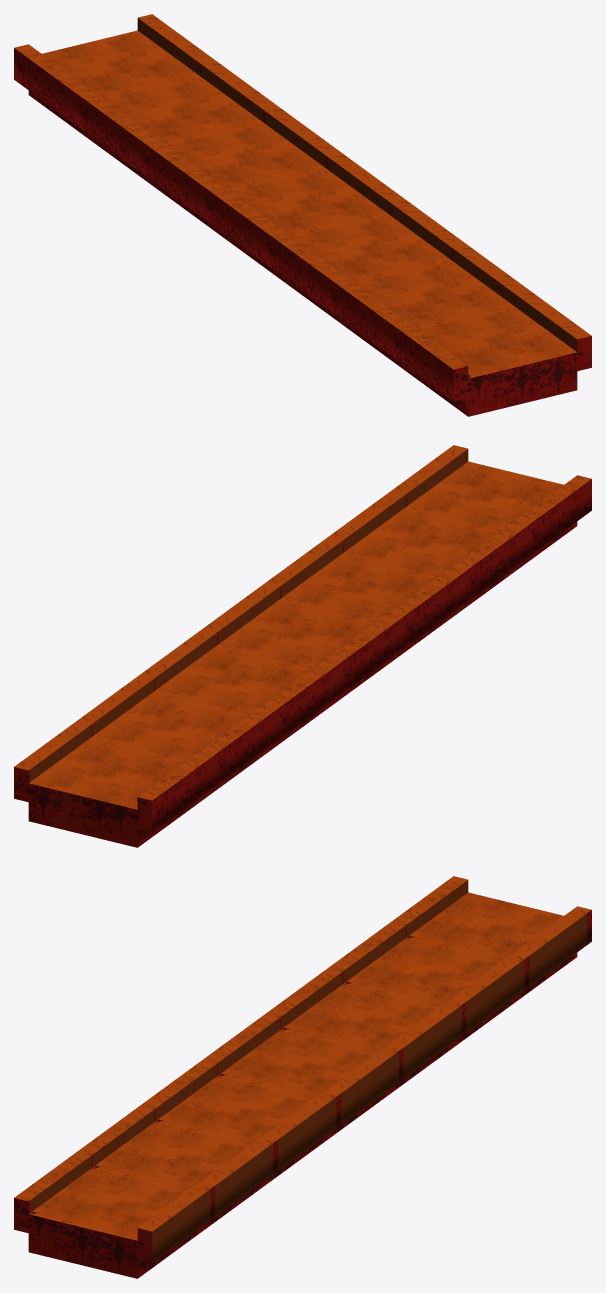
Rendered from TileX6.FBX.
3 renders of one model, top to bottom at view 1: azimuth 30°, elevation 25°; view 2: azimuth 150°, elevation 25°; view 3: azimuth 330°, elevation 25°, orthographic.
Visible parts, largest first — view 1: Box023; view 2: Box023; view 3: Box023.
Boxes of the visible parts, x1=… form: Box023: x1=14, y1=14, x2=591, y2=416; Box023: x1=14, y1=445, x2=591, y2=847; Box023: x1=14, y1=876, x2=591, y2=1278.
Size of the model in its own units: 7.62 by 2.67 by 41.93.
